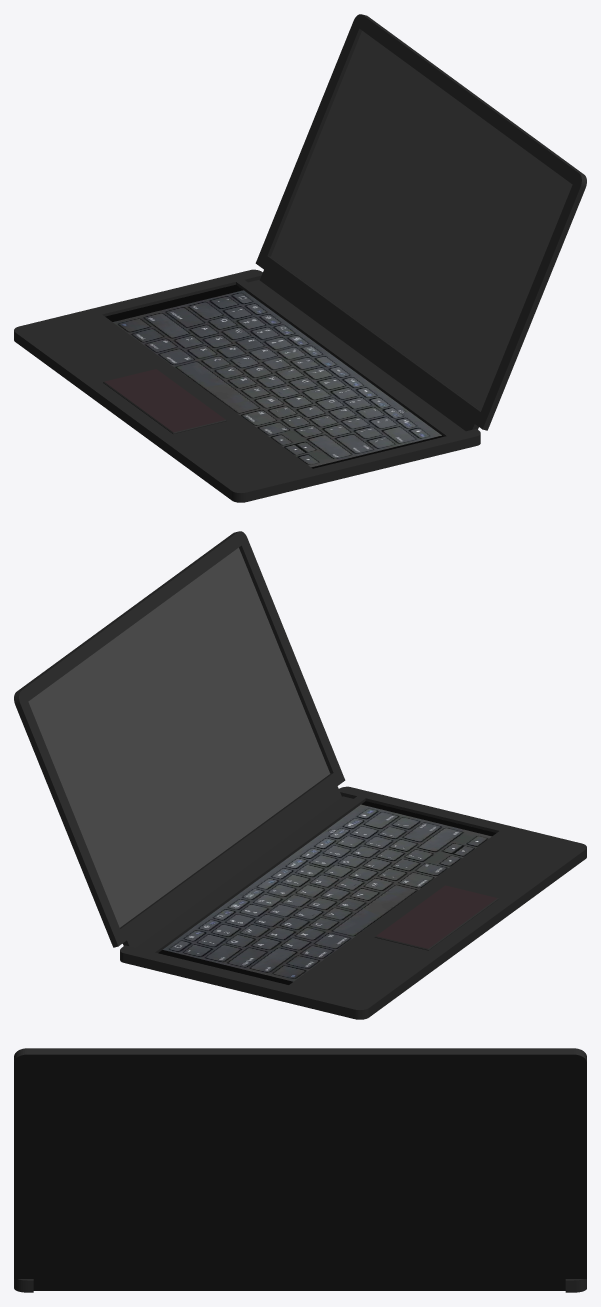
The model's file is laptop.glb.
3 views of the same model, one above another, from view 1: azimuth 30°, elevation 25°; view 2: azimuth 150°, elevation 25°; view 3: azimuth 270°, elevation 25° (orthographic). The views are drawn at different scales.
Parts seen in each view (by area): view 1: Cube_0; view 2: Cube_0; view 3: Cube_0.
Part boxes in pixels (x1=…): Cube_0: x1=14, y1=14, x2=586, y2=502; Cube_0: x1=14, y1=531, x2=586, y2=1019; Cube_0: x1=14, y1=1048, x2=586, y2=1292.
Bounding box in the file's own units: 0.197 × 0.1295 × 0.2198.
5 materials, 1 textured.
